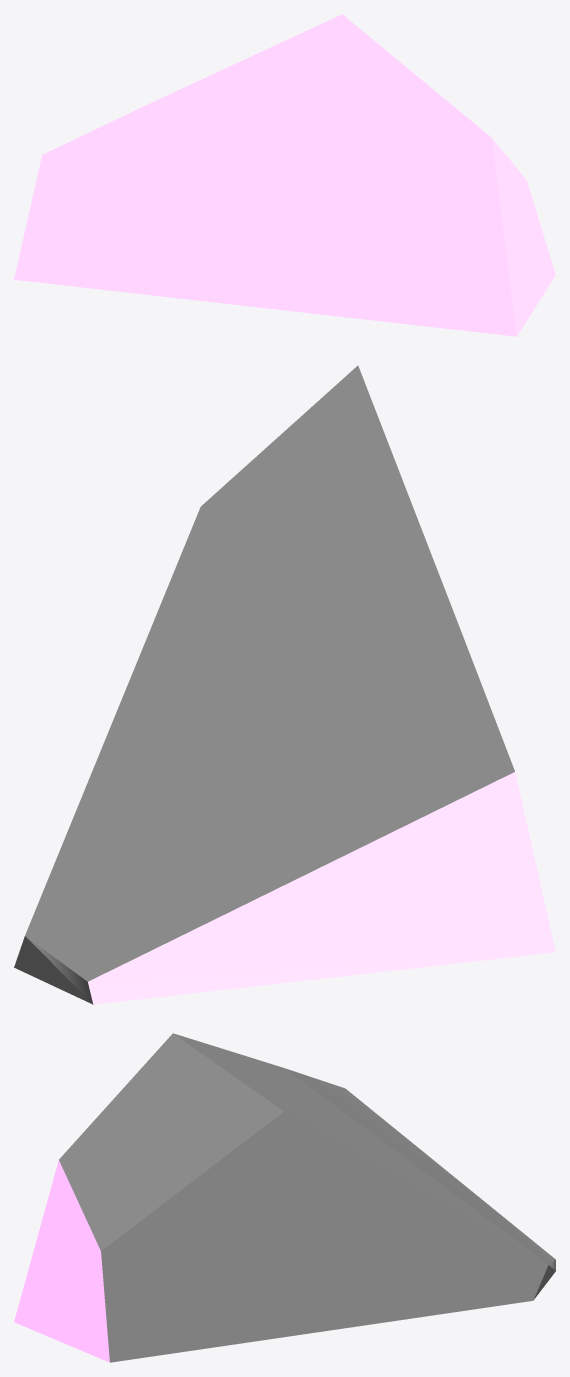
Rendered from Cone_after_005.fbx.
3 views of the same model, one above another, from view 1: azimuth 30°, elevation 25°; view 2: azimuth 150°, elevation 25°; view 3: azimuth 270°, elevation 25° (orthographic). The views are drawn at different scales.
Visible parts, largest first — view 1: Cone_after_005; view 2: Cone_after_005; view 3: Cone_after_005.
Part boxes in pixels (x1,y1,x2,y2): Cone_after_005: [14, 14, 555, 336]; Cone_after_005: [14, 365, 555, 1004]; Cone_after_005: [14, 1033, 555, 1362].
Bounding box in the file's own units: 12.9 × 8.36 × 16.36.
